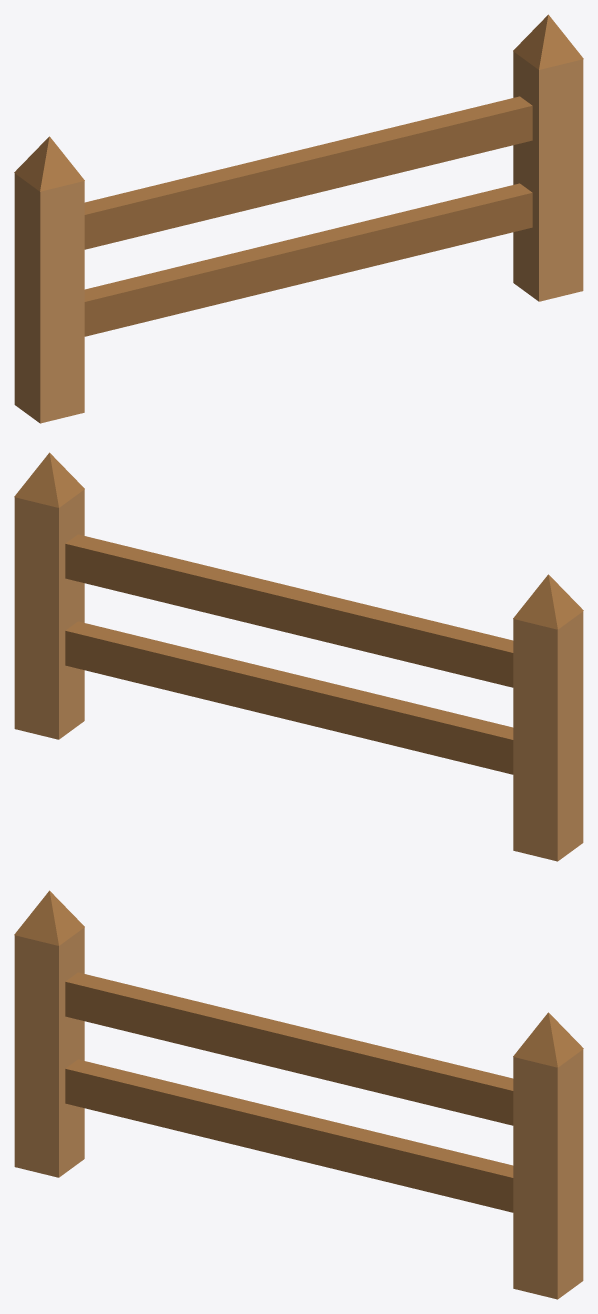
File: Fence.obj
The picture shows the model from 3 angles, top to bottom: view 1: azimuth 30°, elevation 25°; view 2: azimuth 150°, elevation 25°; view 3: azimuth 330°, elevation 25°; orthographic projection.
Visible parts, largest first — view 1: Fence; view 2: Fence; view 3: Fence.
Part boxes in pixels (box(x1,y1,x2,y2)): Fence: box(14, 14, 583, 423); Fence: box(14, 452, 583, 861); Fence: box(14, 890, 583, 1299).
Size of the model in its own units: 1.96 by 0.94 by 0.1626.
Materials: 1 (1 with a texture image).
